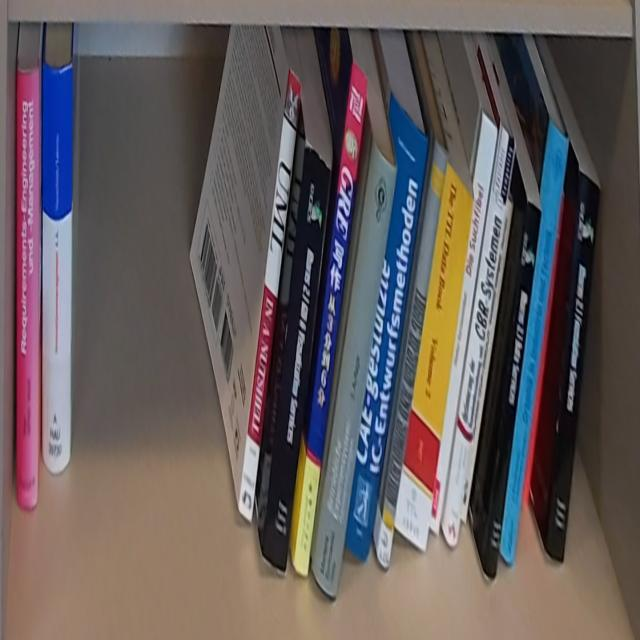Book Spine: (310, 138, 398, 598), (345, 94, 431, 563), (293, 59, 369, 578), (440, 126, 518, 551), (257, 147, 332, 575), (373, 140, 447, 573), (397, 160, 476, 555), (236, 66, 303, 527), (502, 122, 569, 570), (432, 111, 498, 537), (484, 198, 542, 586), (551, 166, 603, 560), (459, 201, 514, 531), (522, 186, 567, 505), (41, 63, 72, 473), (15, 68, 38, 510)
